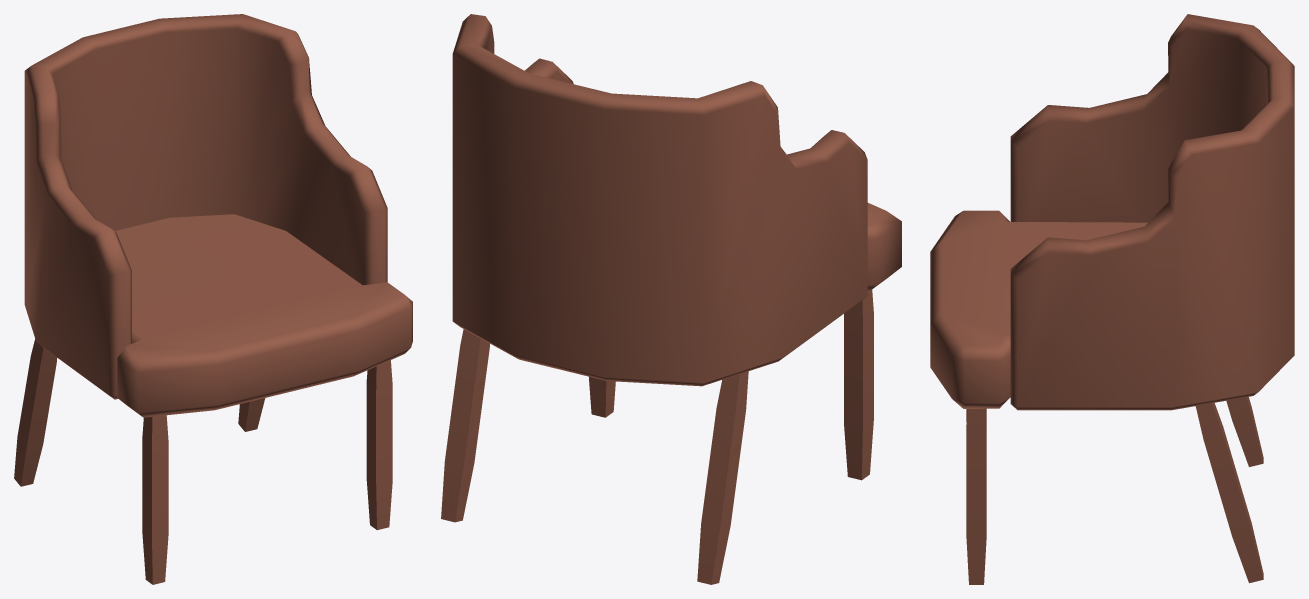
The model's file is Furniture_LougeChair_Small.fbx.
3 views of the same model, side by side, from view 1: azimuth 30°, elevation 25°; view 2: azimuth 150°, elevation 25°; view 3: azimuth 270°, elevation 25° (orthographic). The views are drawn at different scales.
Visible parts, largest first — view 1: lounge_chair_001; view 2: lounge_chair_001; view 3: lounge_chair_001.
Part boxes in pixels (<box>): lounge_chair_001: <box>14,14,412,584</box>; lounge_chair_001: <box>441,14,901,584</box>; lounge_chair_001: <box>930,14,1294,584</box>.
Bounding box in the file's own units: 82.55 × 118 × 87.8.
